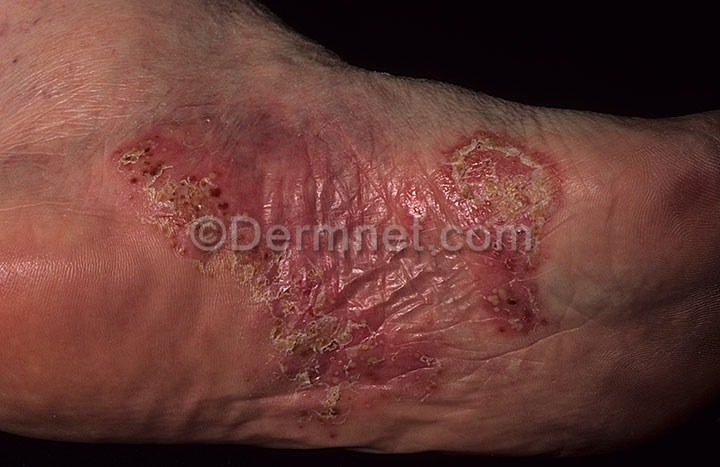Eczema: (98, 113, 436, 443), (427, 127, 582, 408)
